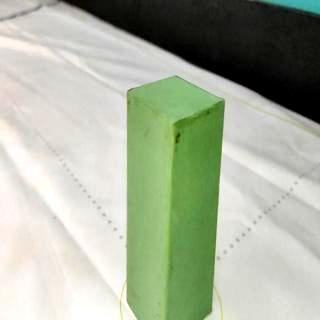greenbox: (127, 75, 226, 320)
